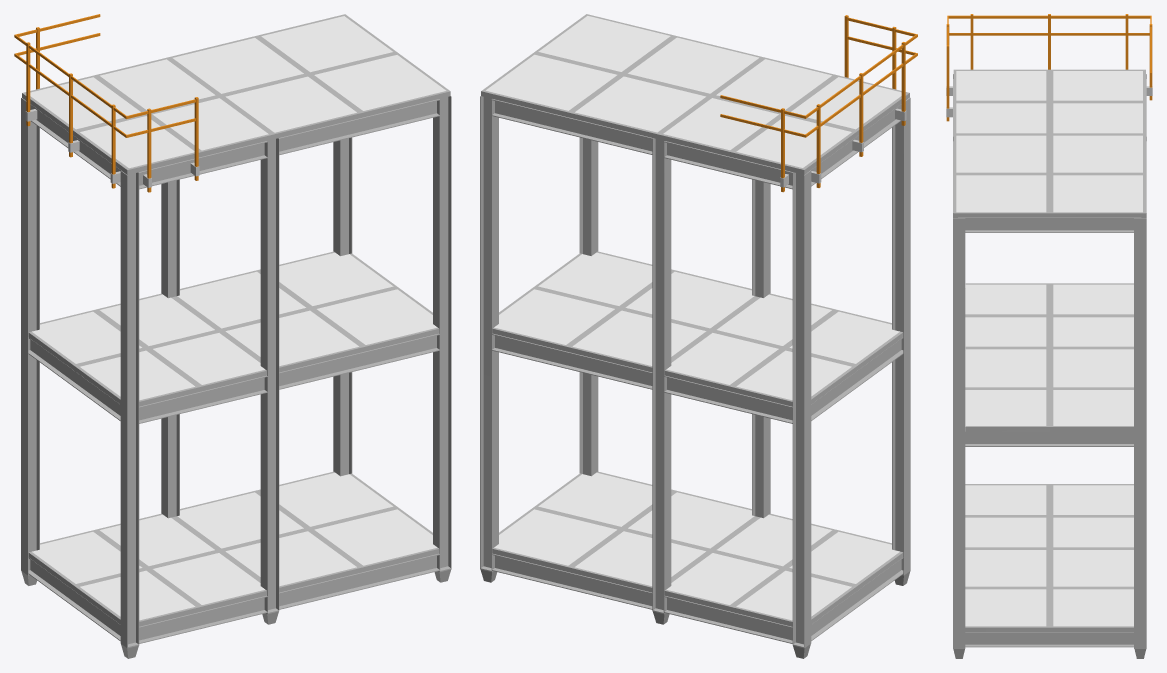
The model's file is SM_H_Building_Tide_DeepJail_04_Shelf_04d_ATLAS.fbx.
3 views of the same model, side by side, from view 1: azimuth 30°, elevation 25°; view 2: azimuth 150°, elevation 25°; view 3: azimuth 270°, elevation 25° (orthographic). The views are drawn at different scales.
Parts seen in each view (by area): view 1: SM_H_Building_Tide_DeepJail_04_Shelf_04d_ATLAS; view 2: SM_H_Building_Tide_DeepJail_04_Shelf_04d_ATLAS; view 3: SM_H_Building_Tide_DeepJail_04_Shelf_04d_ATLAS.
Part boxes in pixels (left/top/right/bottom): SM_H_Building_Tide_DeepJail_04_Shelf_04d_ATLAS: left=14, top=14, right=451, bottom=658; SM_H_Building_Tide_DeepJail_04_Shelf_04d_ATLAS: left=480, top=14, right=917, bottom=658; SM_H_Building_Tide_DeepJail_04_Shelf_04d_ATLAS: left=946, top=14, right=1152, bottom=658.
Bounding box in the file's own units: 555 × 330 × 883.
